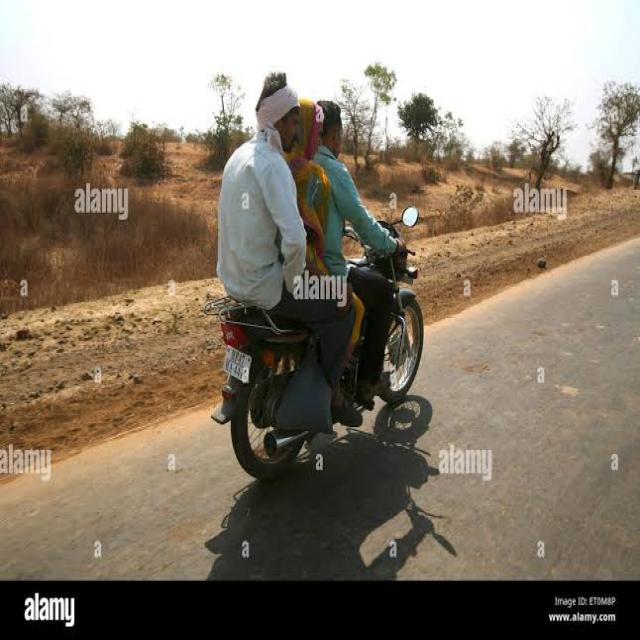triple_rider: (214, 72, 423, 467)
